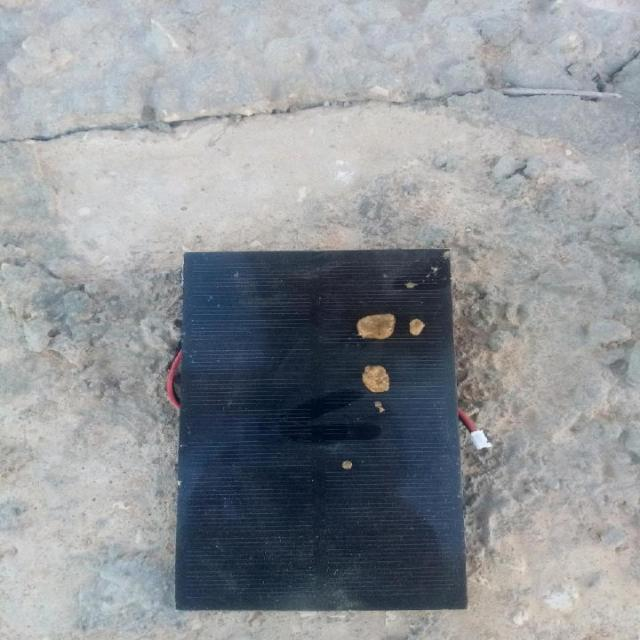faulty: (178, 248, 460, 614)
